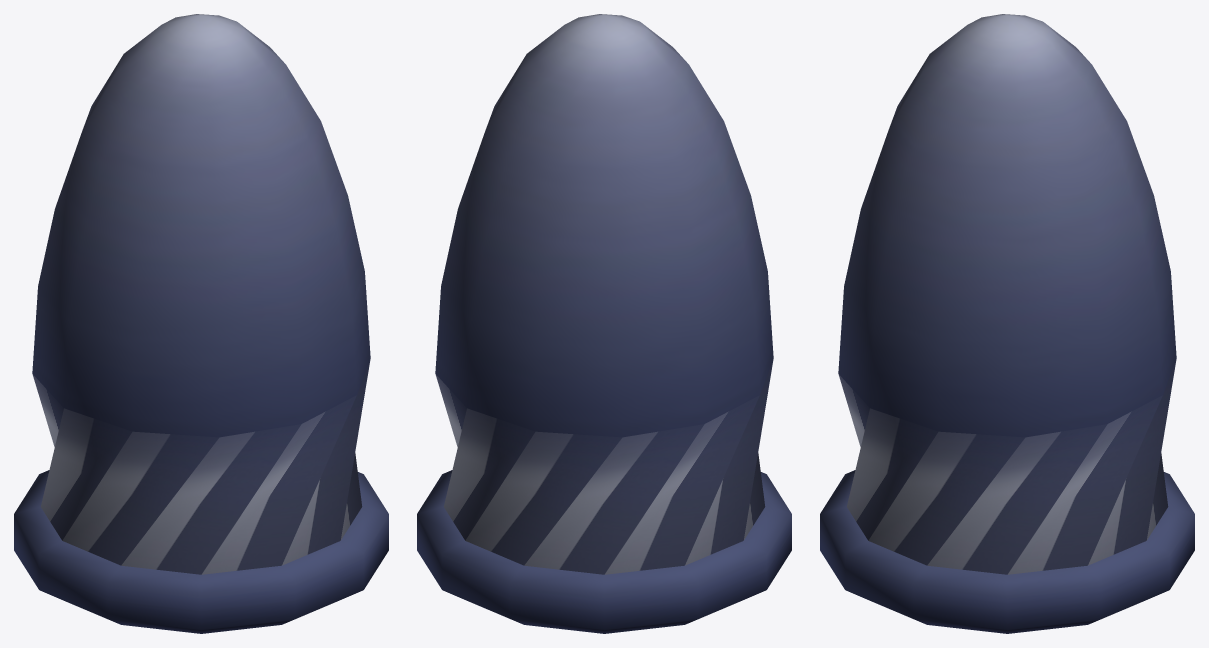
Rendered from projectile_01.fbx.
3 renders of one model, left to right at view 1: azimuth 30°, elevation 25°; view 2: azimuth 150°, elevation 25°; view 3: azimuth 270°, elevation 25°, orthographic.
Parts seen in each view (by area): view 1: pSphere1; view 2: pSphere1; view 3: pSphere1.
Part boxes in pixels (bbox=[...]): pSphere1: bbox=[14, 14, 388, 633]; pSphere1: bbox=[417, 14, 791, 633]; pSphere1: bbox=[820, 14, 1194, 633].
Size of the model in its own units: 0.3194 by 0.5174 by 0.3194.
Materials: 1 (1 with a texture image).
